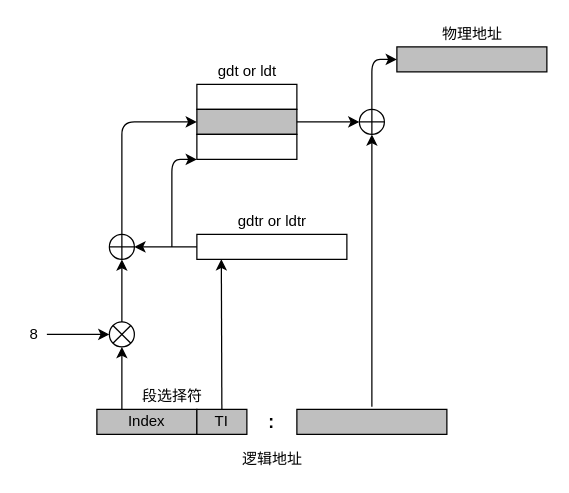
Image size: 569x493. Some labels were removed from this diagram. The shapes that lost their labels are listed below. From the top down, each one's box as (x1, y1, x2, y2) in pixels, then its label:
(196, 108, 297, 134): 段描述符
(296, 408, 447, 434): Offset
